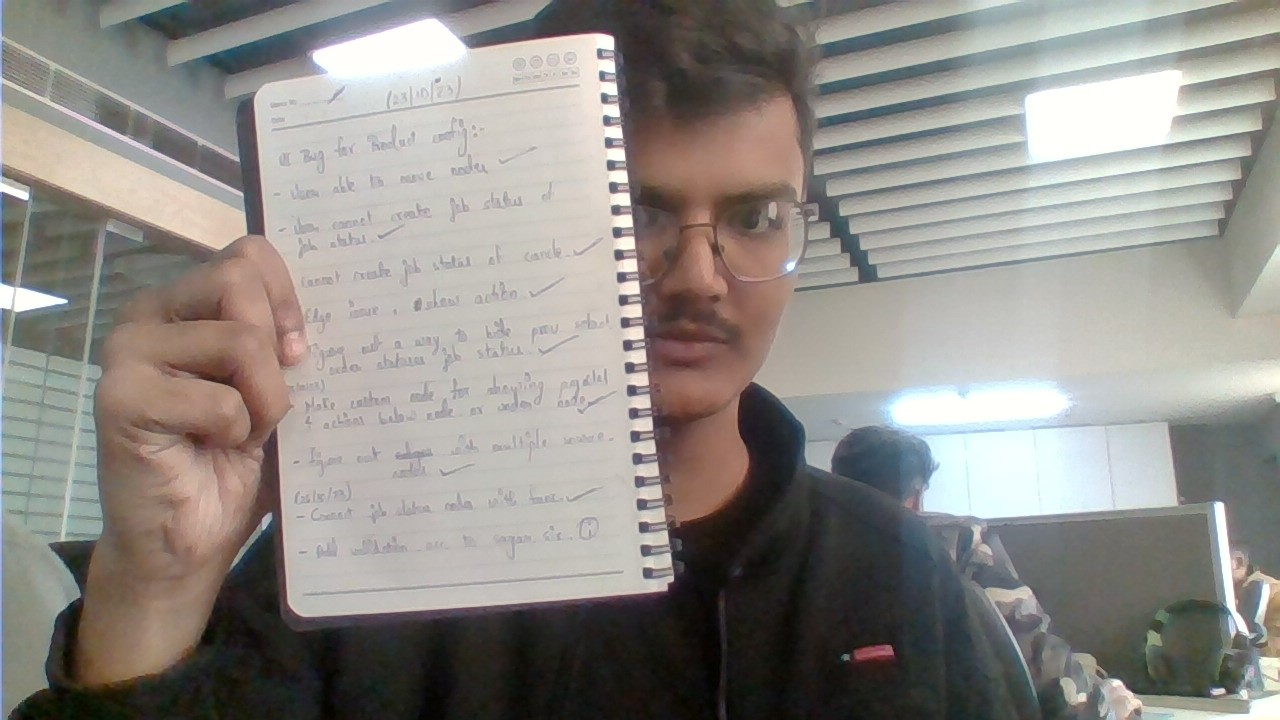notebook: (243, 32, 674, 625)
